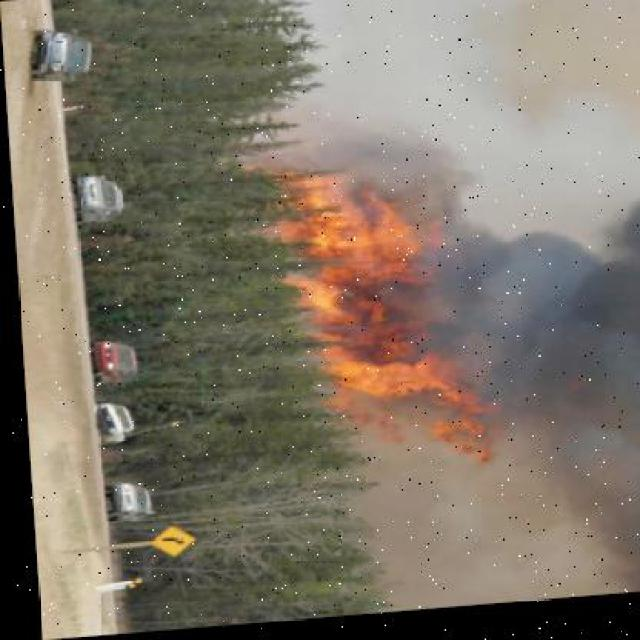fire: (280, 138, 491, 478)
